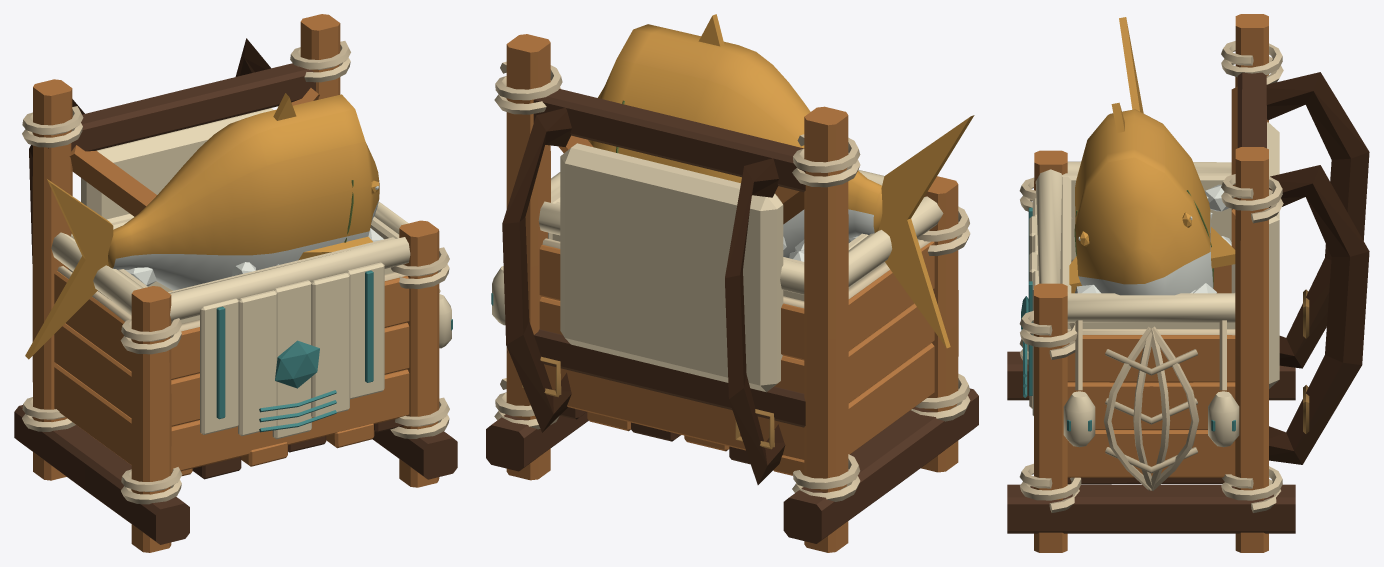
Rendered from prop_trade_pack_sea_bream_a.glb.
3 views of the same model, side by side, from view 1: azimuth 30°, elevation 25°; view 2: azimuth 150°, elevation 25°; view 3: azimuth 270°, elevation 25° (orthographic). The views are drawn at different scales.
Visible parts, largest first — view 1: prop_trade_pack_sea_bream_a_LOD0; view 2: prop_trade_pack_sea_bream_a_LOD0; view 3: prop_trade_pack_sea_bream_a_LOD0.
Part boxes in pixels (x1,y1,x2,y2): prop_trade_pack_sea_bream_a_LOD0: (14, 14, 457, 552); prop_trade_pack_sea_bream_a_LOD0: (486, 14, 978, 552); prop_trade_pack_sea_bream_a_LOD0: (1007, 14, 1369, 552).
Size of what is drawn, in the model's own units: 0.9952 by 0.9642 by 0.8041.
